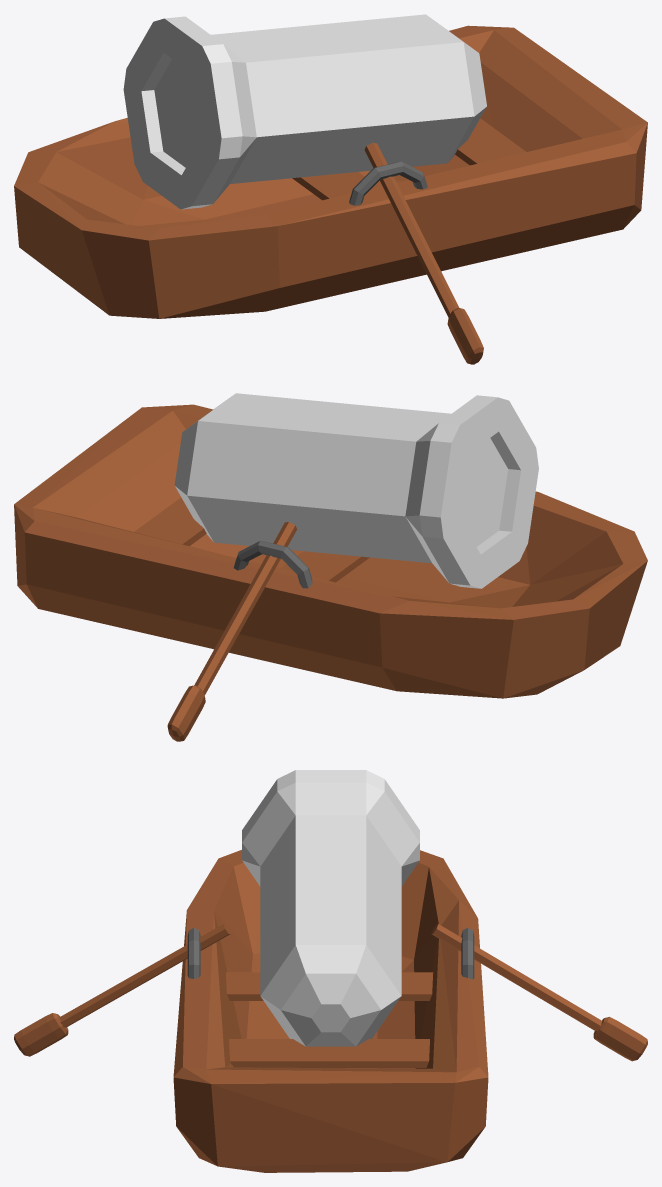
The model's file is Cannon.fbx.
3 renders of one model, top to bottom at view 1: azimuth 30°, elevation 25°; view 2: azimuth 150°, elevation 25°; view 3: azimuth 270°, elevation 25°, orthographic. The views are drawn at different scales.
Visible parts, largest first — view 1: Boat, Cannon, OarLeft, Seat.001, Metal, Seat; view 2: Boat, Cannon, OarRight, Seat.001, Seat, Metal; view 3: Boat, Cannon, Seat.001, OarRight, OarLeft, Seat, Metal.
Boxes of the visible parts, bbox=[...] form: Boat: bbox=[14, 25, 647, 318]; Cannon: bbox=[123, 14, 486, 209]; OarLeft: bbox=[364, 143, 483, 364]; Seat.001: bbox=[455, 118, 526, 165]; Metal: bbox=[349, 161, 427, 205]; Seat: bbox=[292, 172, 378, 200]; Boat: bbox=[14, 404, 647, 698]; Cannon: bbox=[174, 393, 538, 588]; OarRight: bbox=[167, 522, 297, 741]; Seat.001: bbox=[134, 497, 206, 545]; Seat: bbox=[280, 551, 369, 582]; Metal: bbox=[233, 540, 312, 588]; Boat: bbox=[173, 850, 488, 1172]; Cannon: bbox=[242, 770, 419, 1046]; Seat.001: bbox=[229, 1039, 429, 1067]; OarRight: bbox=[431, 924, 647, 1061]; OarLeft: bbox=[14, 924, 230, 1056]; Seat: bbox=[226, 972, 433, 1000]; Metal: bbox=[187, 928, 474, 979].
Size of the model in its own units: 4.01 by 3.69 by 1.64.
